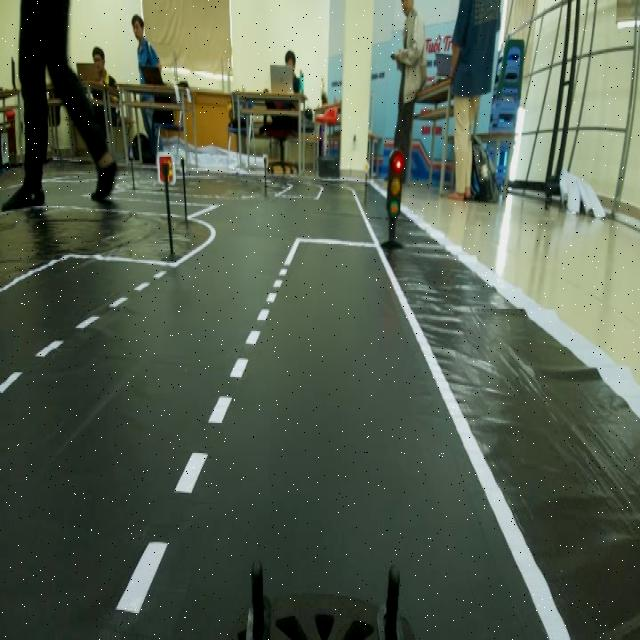trafficlight: (375, 140, 407, 258)
